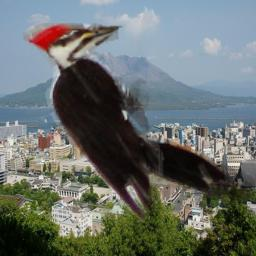Woodpecker: (23, 23, 255, 223)
